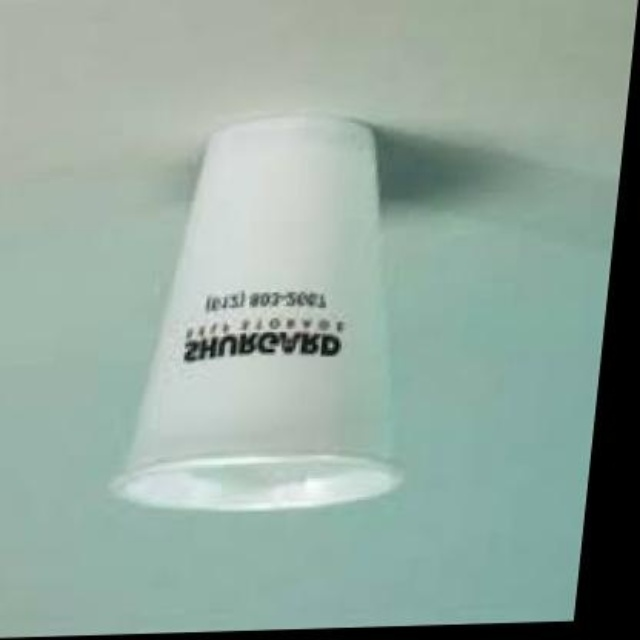trash: (112, 115, 402, 511)
